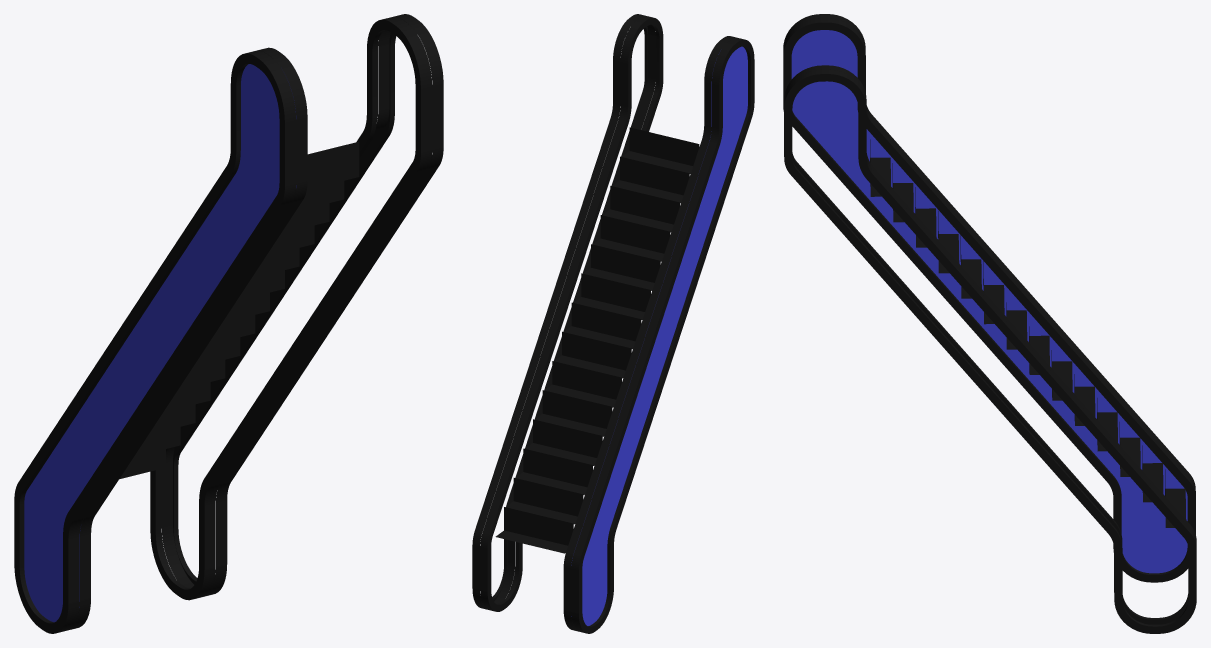
The model's file is upStair.dae.
3 renders of one model, left to right at view 1: azimuth 30°, elevation 25°; view 2: azimuth 150°, elevation 25°; view 3: azimuth 270°, elevation 25°, orthographic. The views are drawn at different scales.
Parts seen in each view (by area): view 1: r2.1, l2, l2.1, floor.1; view 2: floor.1, r2.1, l2.1, l2; view 3: l2, r2.1, l2.1, floor.1.
Part boxes in pixels (x1=…): r2.1: x1=150, y1=14, x2=443, y2=600; l2: x1=24, y1=64, x2=296, y2=622; l2.1: x1=14, y1=47, x2=307, y2=633; floor.1: x1=119, y1=141, x2=359, y2=479; floor.1: x1=495, y1=127, x2=699, y2=553; r2.1: x1=472, y1=14, x2=663, y2=611; l2.1: x1=563, y1=36, x2=754, y2=633; l2: x1=571, y1=46, x2=747, y2=625; l2: x1=791, y1=30, x2=1187, y2=573; r2.1: x1=784, y1=65, x2=1196, y2=633; l2.1: x1=783, y1=14, x2=1195, y2=582; floor.1: x1=870, y1=139, x2=1186, y2=527.
Size of the model in its own units: 0.7023 by 3 by 2.
